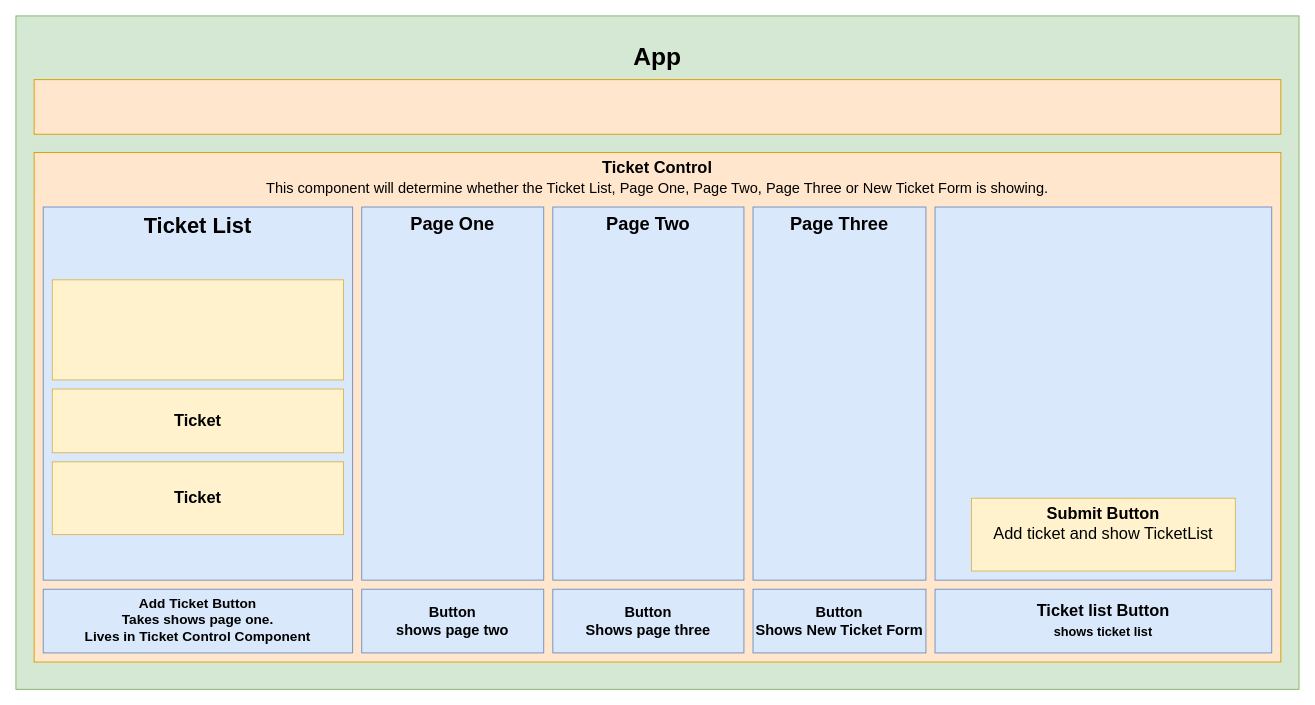
Some shapes in this 1315 by 705 pixel diagram are drawn without their labels. The shapes that lost their labels are listed below. From the top down, each one's box as (x1, y1, x2, y2) in pixels, then its label:
(33, 79, 1281, 134): Header
(51, 279, 344, 380): Ticket Clicking on a ticket will show a ticket's detail
(934, 206, 1272, 580): New Ticket Form
